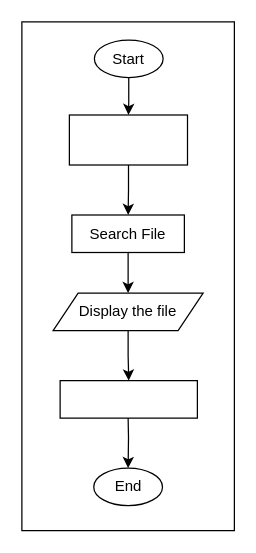
Image size: 256x553. Some labels were removed from this diagram. Here are the shapes that lost their labels. From the top down, the centre of each, then its label:
the point at 128,139: Access Web Application
the point at 128,398: Search Section
